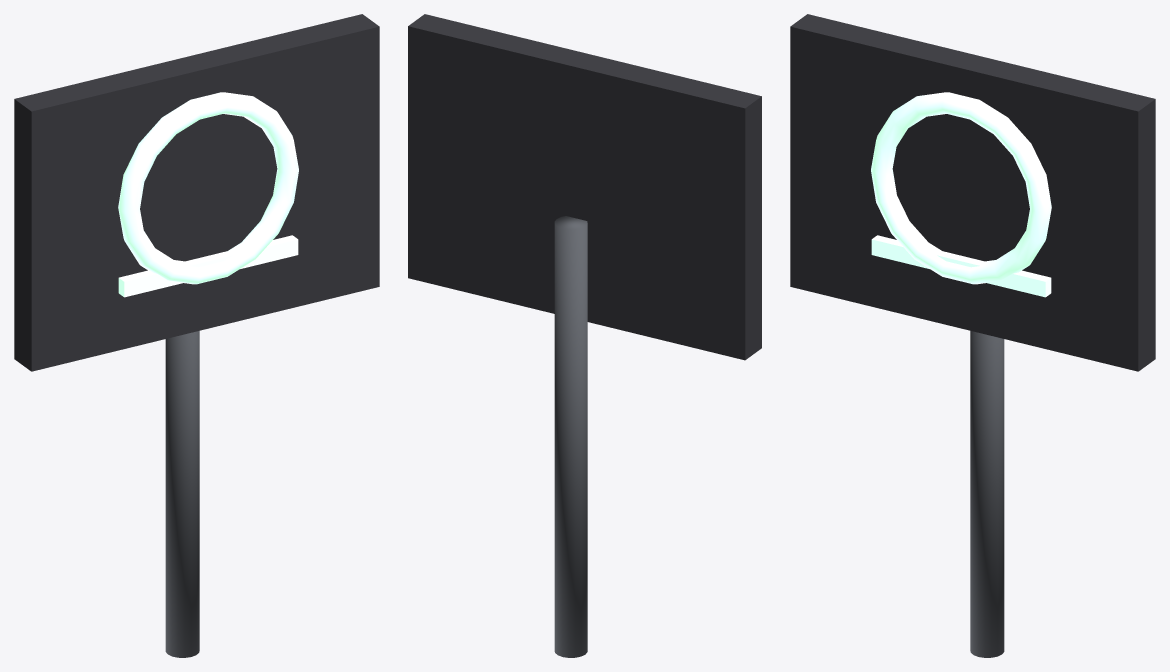
The model's file is prop_kanban_neon_round_g.glb.
The picture shows the model from 3 angles, left to right: view 1: azimuth 30°, elevation 25°; view 2: azimuth 150°, elevation 25°; view 3: azimuth 330°, elevation 25°; orthographic projection. The views are drawn at different scales.
Visible parts, largest first — view 1: kanban_neon_round_g; view 2: kanban_neon_round_g; view 3: kanban_neon_round_g.
Boxes of the visible parts, x1,y1,x2,y2 form: kanban_neon_round_g: (14,14,379,657); kanban_neon_round_g: (408,14,761,657); kanban_neon_round_g: (790,14,1155,657).
Bounding box in the file's own units: 1.4 × 2.3 × 0.28.
